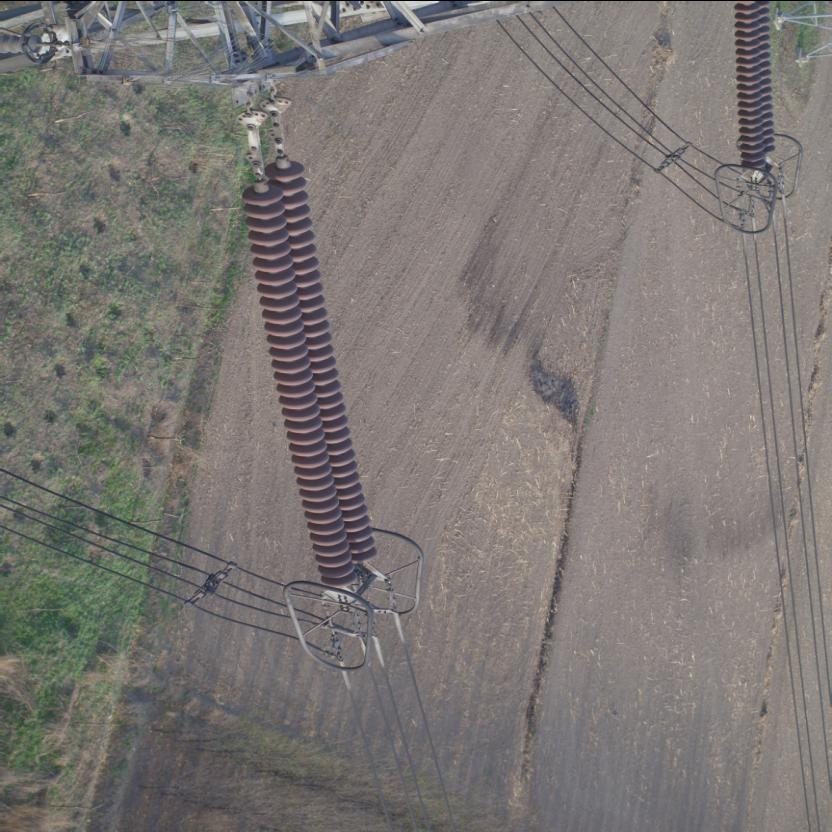insulator: (241, 129, 381, 593), (732, 0, 779, 176)
